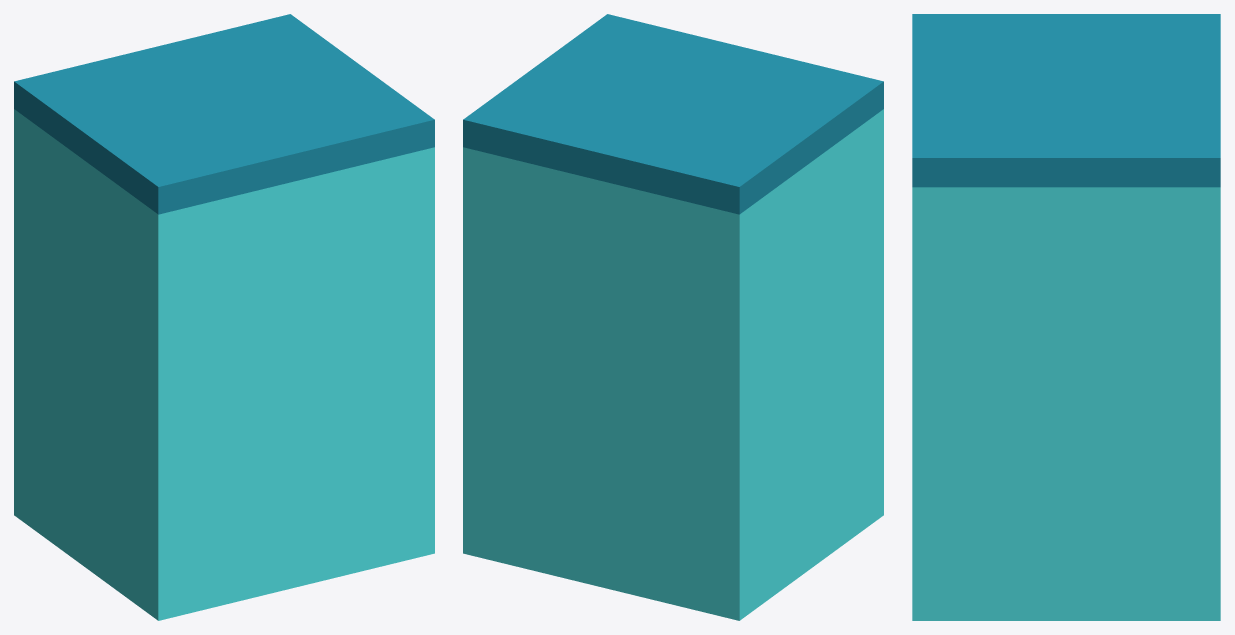
File: noobioriginal-6.obj
The picture shows the model from 3 angles, left to right: view 1: azimuth 30°, elevation 25°; view 2: azimuth 150°, elevation 25°; view 3: azimuth 270°, elevation 25°; orthographic projection. The views are drawn at different scales.
Bounding box in the file's own units: 4.2 × 6.3 × 3.8.
1 material, 1 textured.
